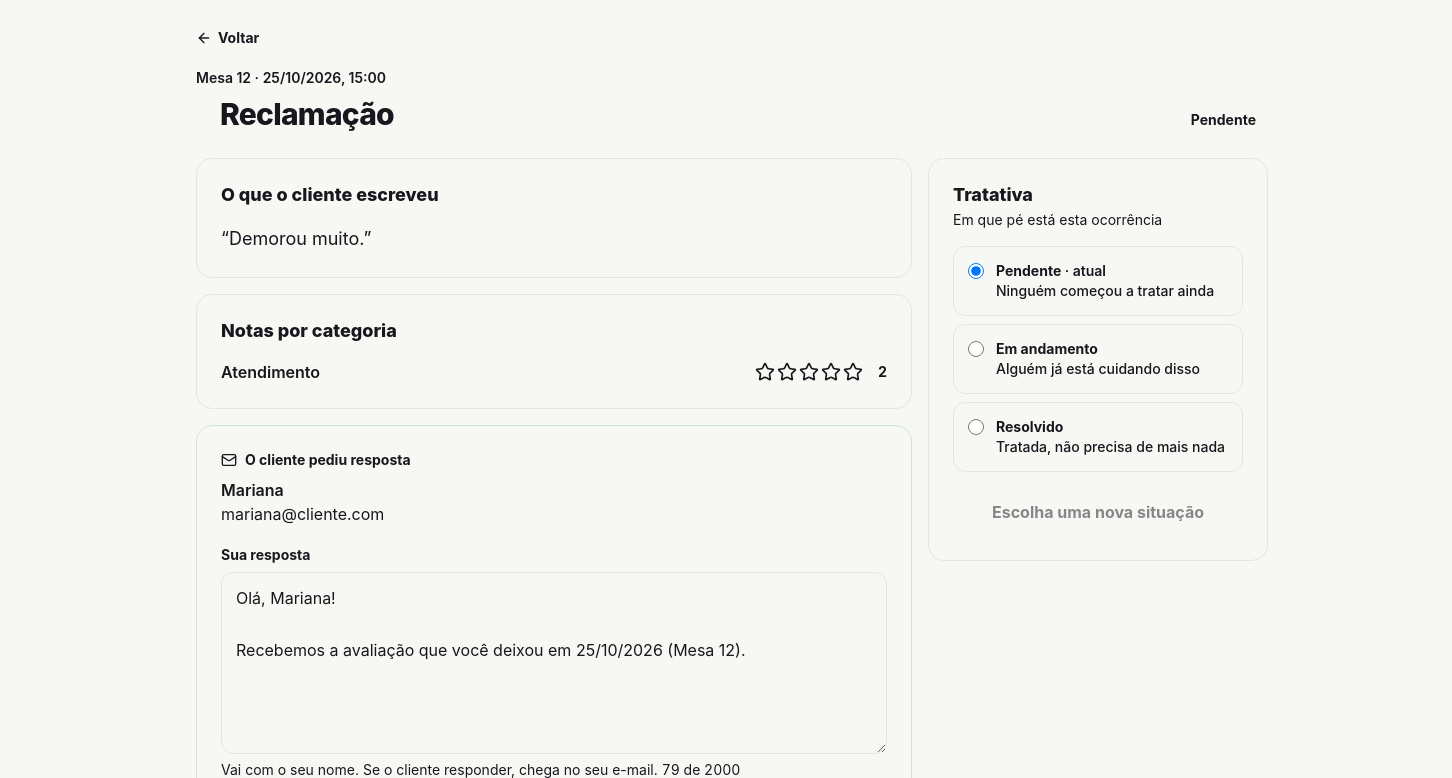
responder pelo Echo › se o e-mail não saiu, diz o erro e mantém o texto para tentar de novo
expect the heading "O que o cliente escreveu" is shown: met, box [221,184,439,205]
Type "Pedimos desculpas." into the text box labelled "Sua resposta" at (554, 662), box [221,572,887,754]
(page scrolled)
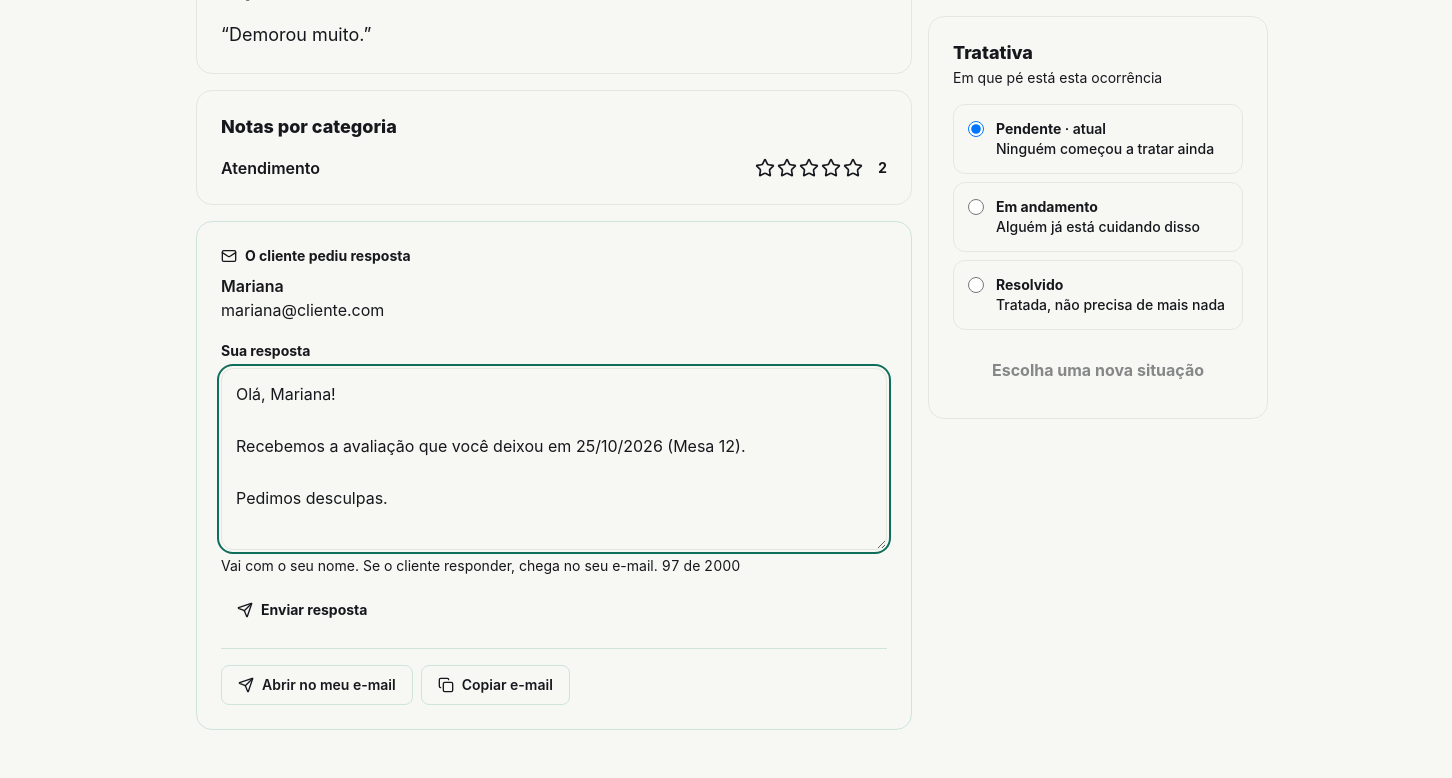
Click the button "Enviar resposta" at (302, 610), box [221,588,383,632]
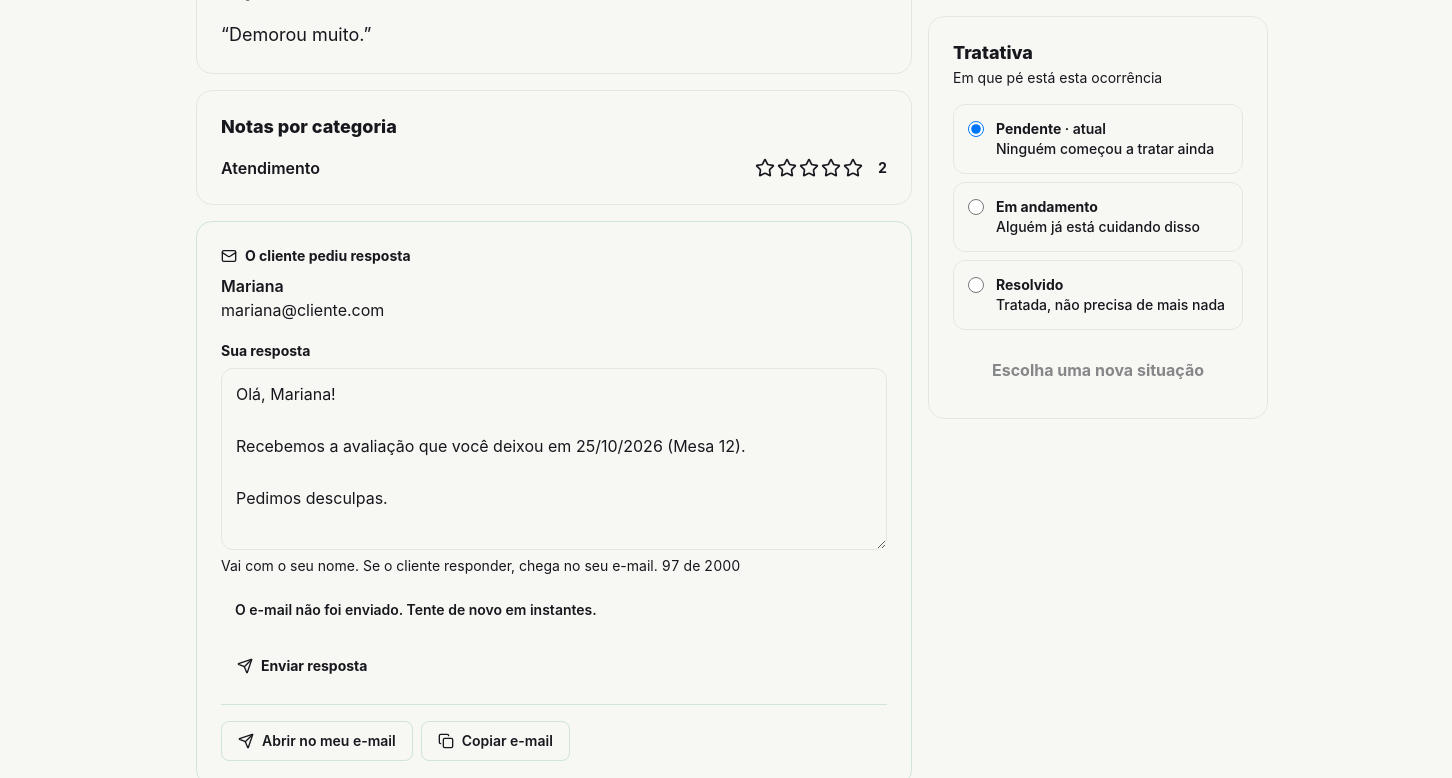
expect the message reads "O e-mail não foi enviado. Tente de novo em instantes.": met, box [235,600,597,618]
